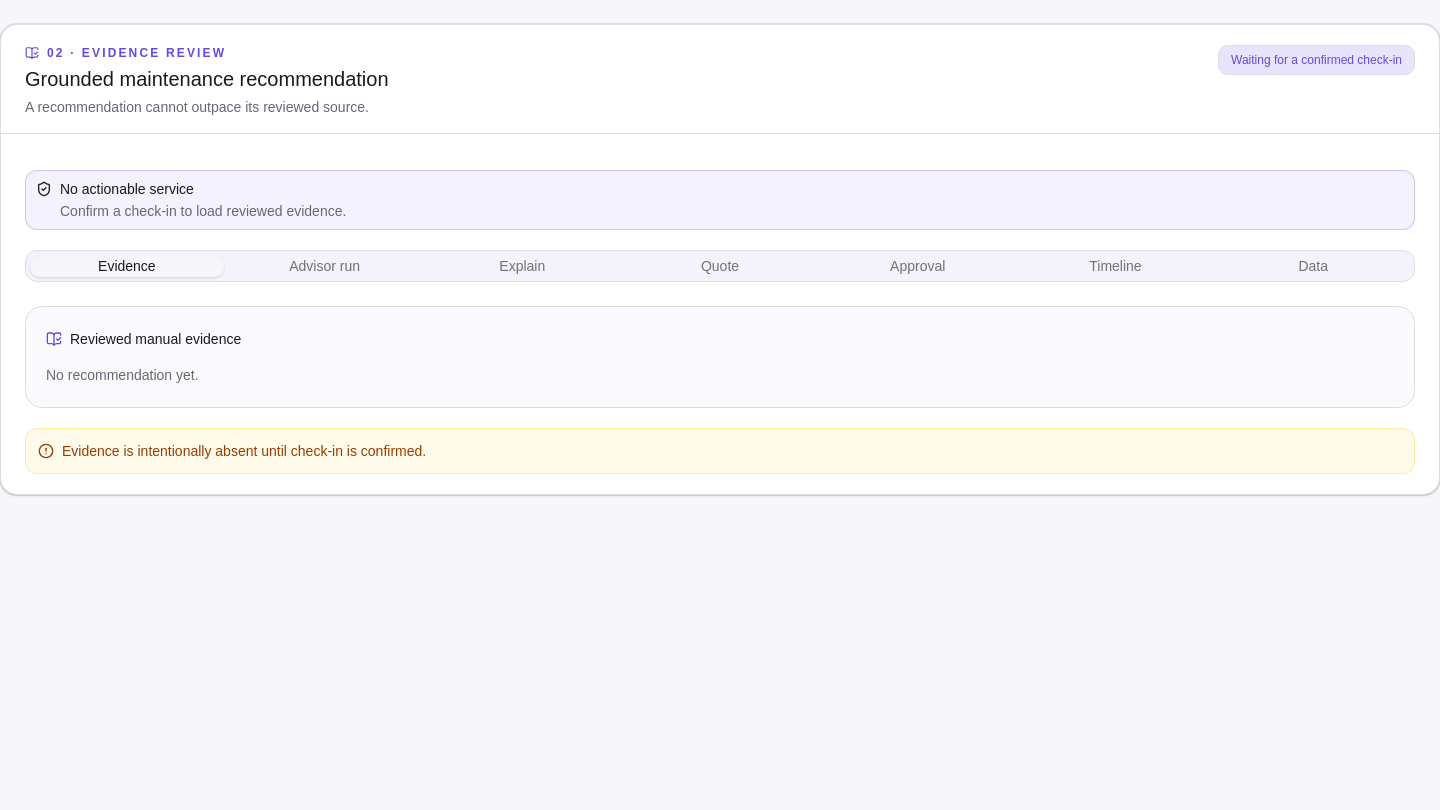
Test: shows priced quote lines with an explicit unavailable reason
Click the tab "Quote".
click(720, 266)  # box x1=623 y1=256 x2=817 y2=276
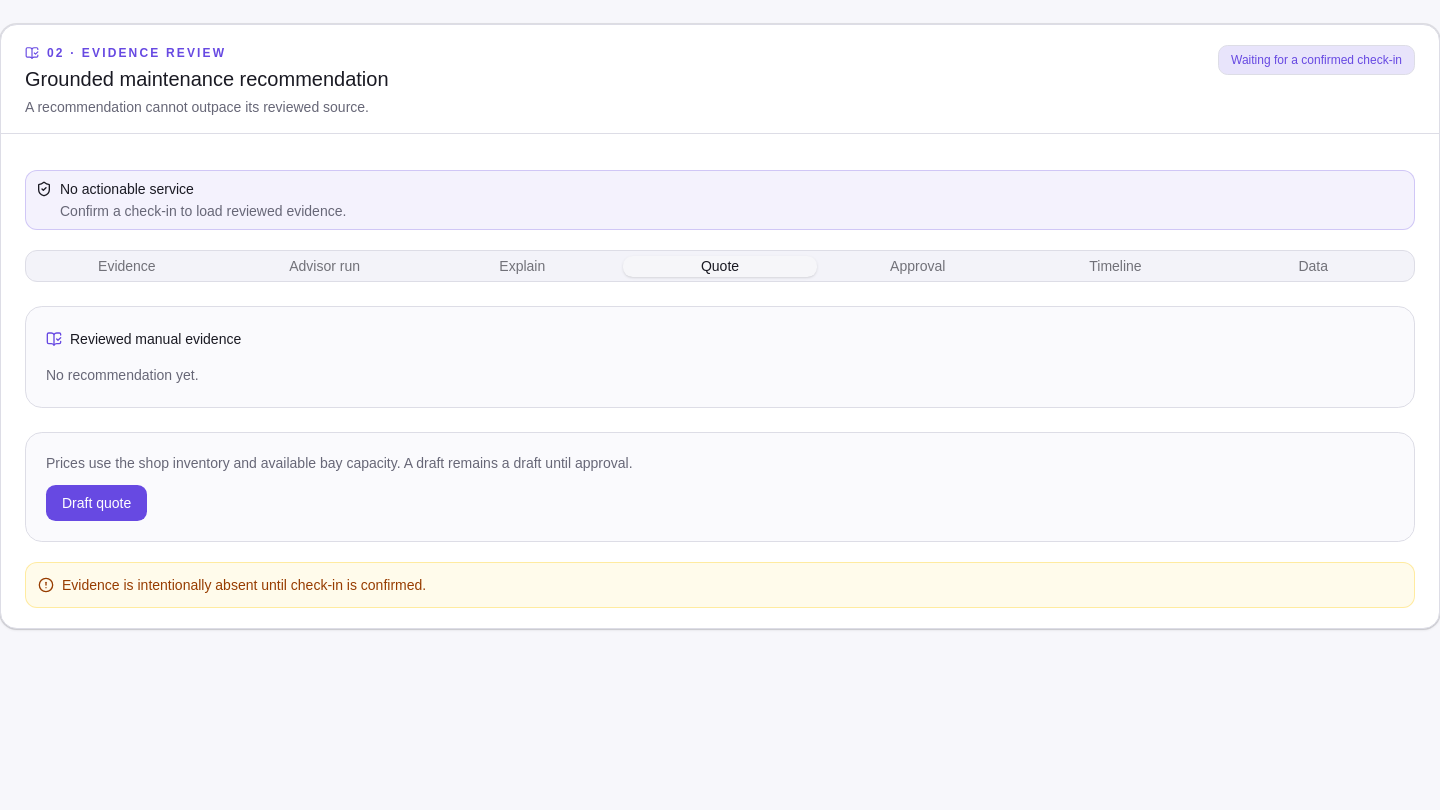
Click the button "Draft quote".
click(97, 503)  # box x1=46 y1=485 x2=147 y2=521
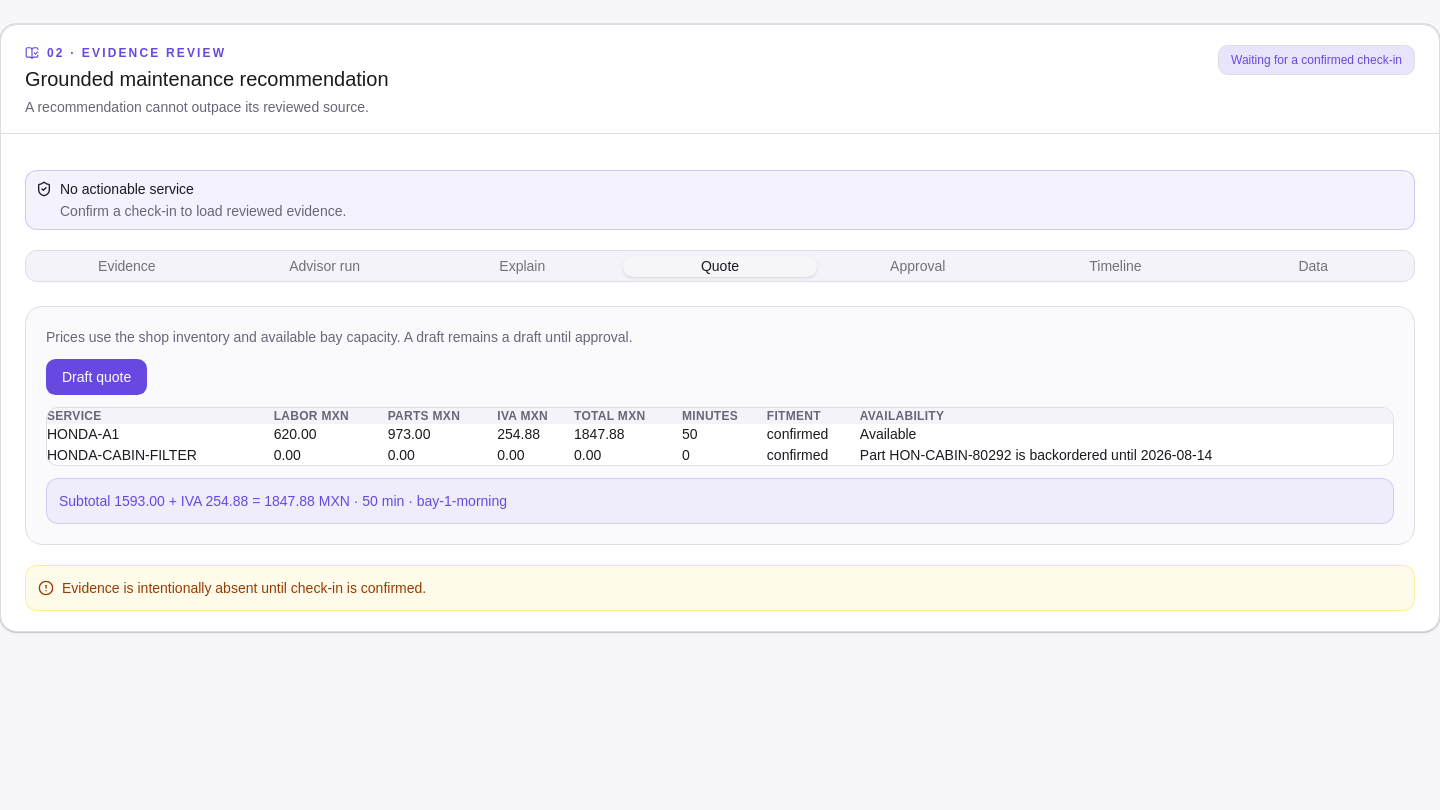
Now the table named "Quote draft lines" shows "620.00", box x1=274 y1=426 x2=316 y2=442
Now the table named "Quote draft lines" shows "254.88", box x1=497 y1=426 x2=540 y2=442
Now the table named "Quote draft lines" shows "Part HON-CABIN-80292 is backordered until 2026-08-14", box x1=860 y1=447 x2=1212 y2=463
